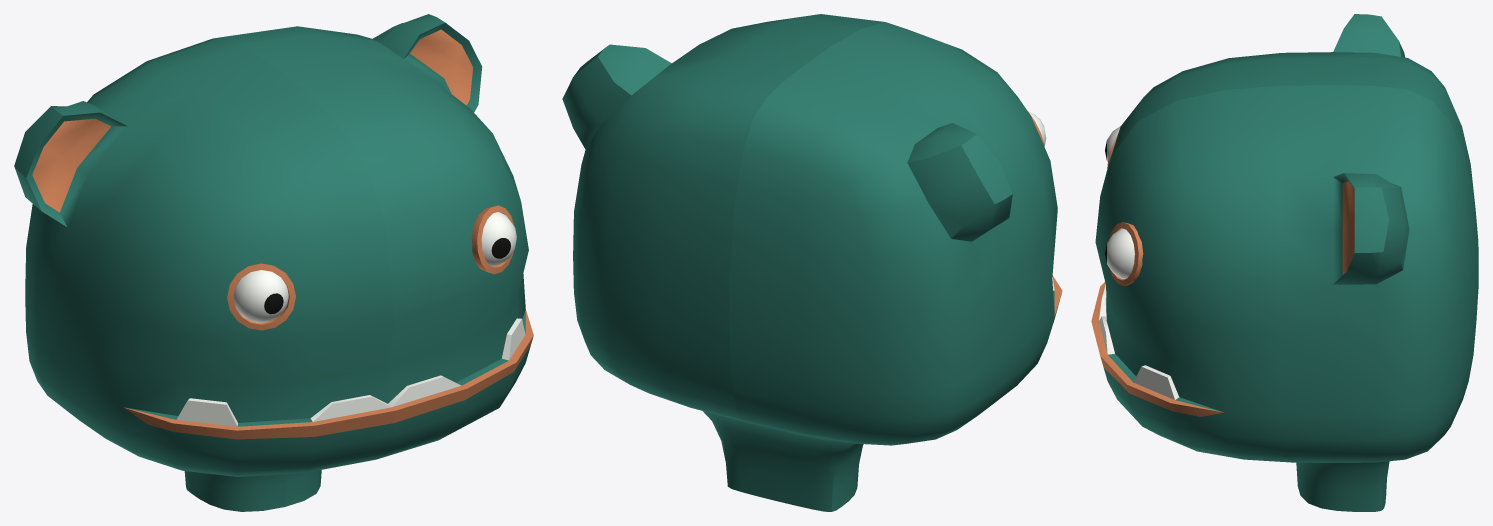
File: Head3.fbx
3 renders of one model, left to right at view 1: azimuth 30°, elevation 25°; view 2: azimuth 150°, elevation 25°; view 3: azimuth 270°, elevation 25°, orthographic. The views are drawn at different scales.
Parts seen in each view (by area): view 1: Head3, Eye.R, Eye.L; view 2: Head3; view 3: Head3, Eye.L.
Boxes of the visible parts, <box> form: Head3: <box>14,14,533,511</box>; Eye.R: <box>233,270,288,322</box>; Eye.L: <box>481,212,516,266</box>; Head3: <box>562,14,1062,511</box>; Head3: <box>1091,14,1478,511</box>; Eye.L: <box>1105,228,1134,279</box>.
Bounding box in the file's own units: 0.4259 × 0.3857 × 0.3374.
